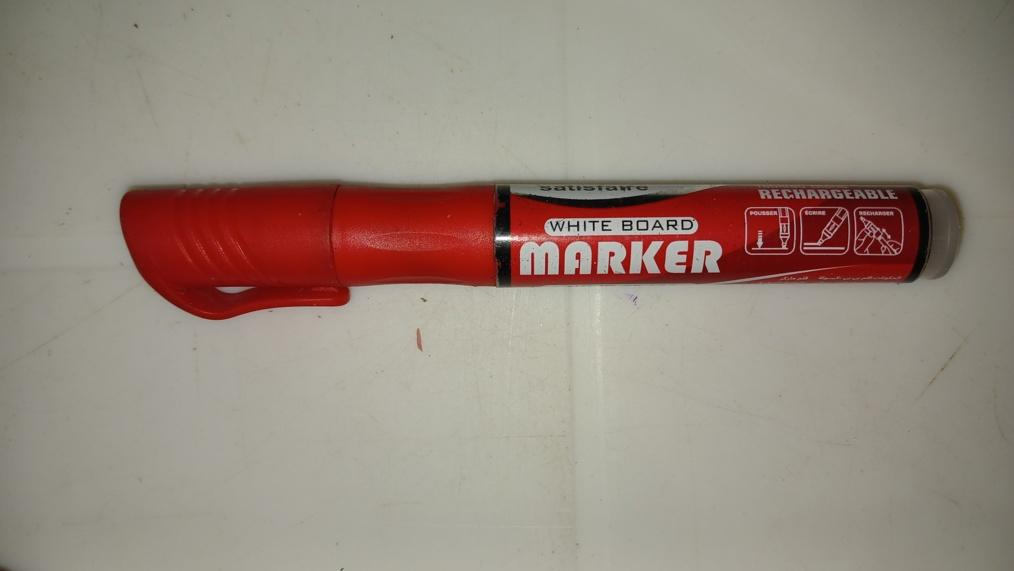Whiteboard marker: (118, 181, 965, 323)
